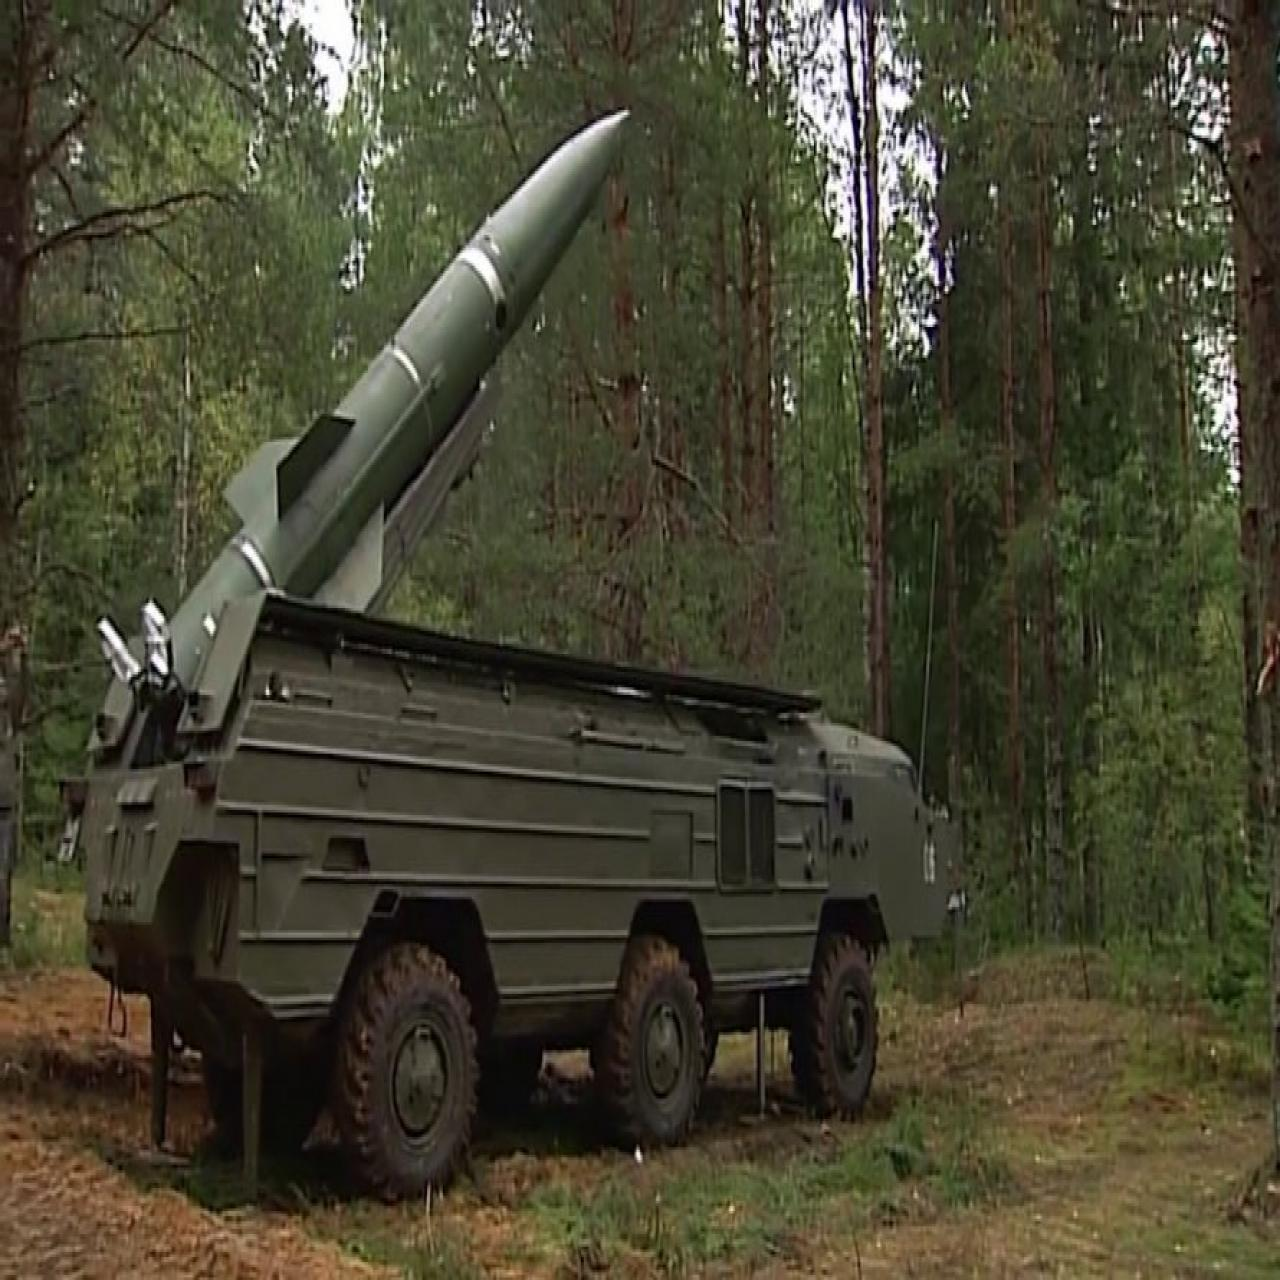MIL_Veh: (81, 105, 960, 1193)
